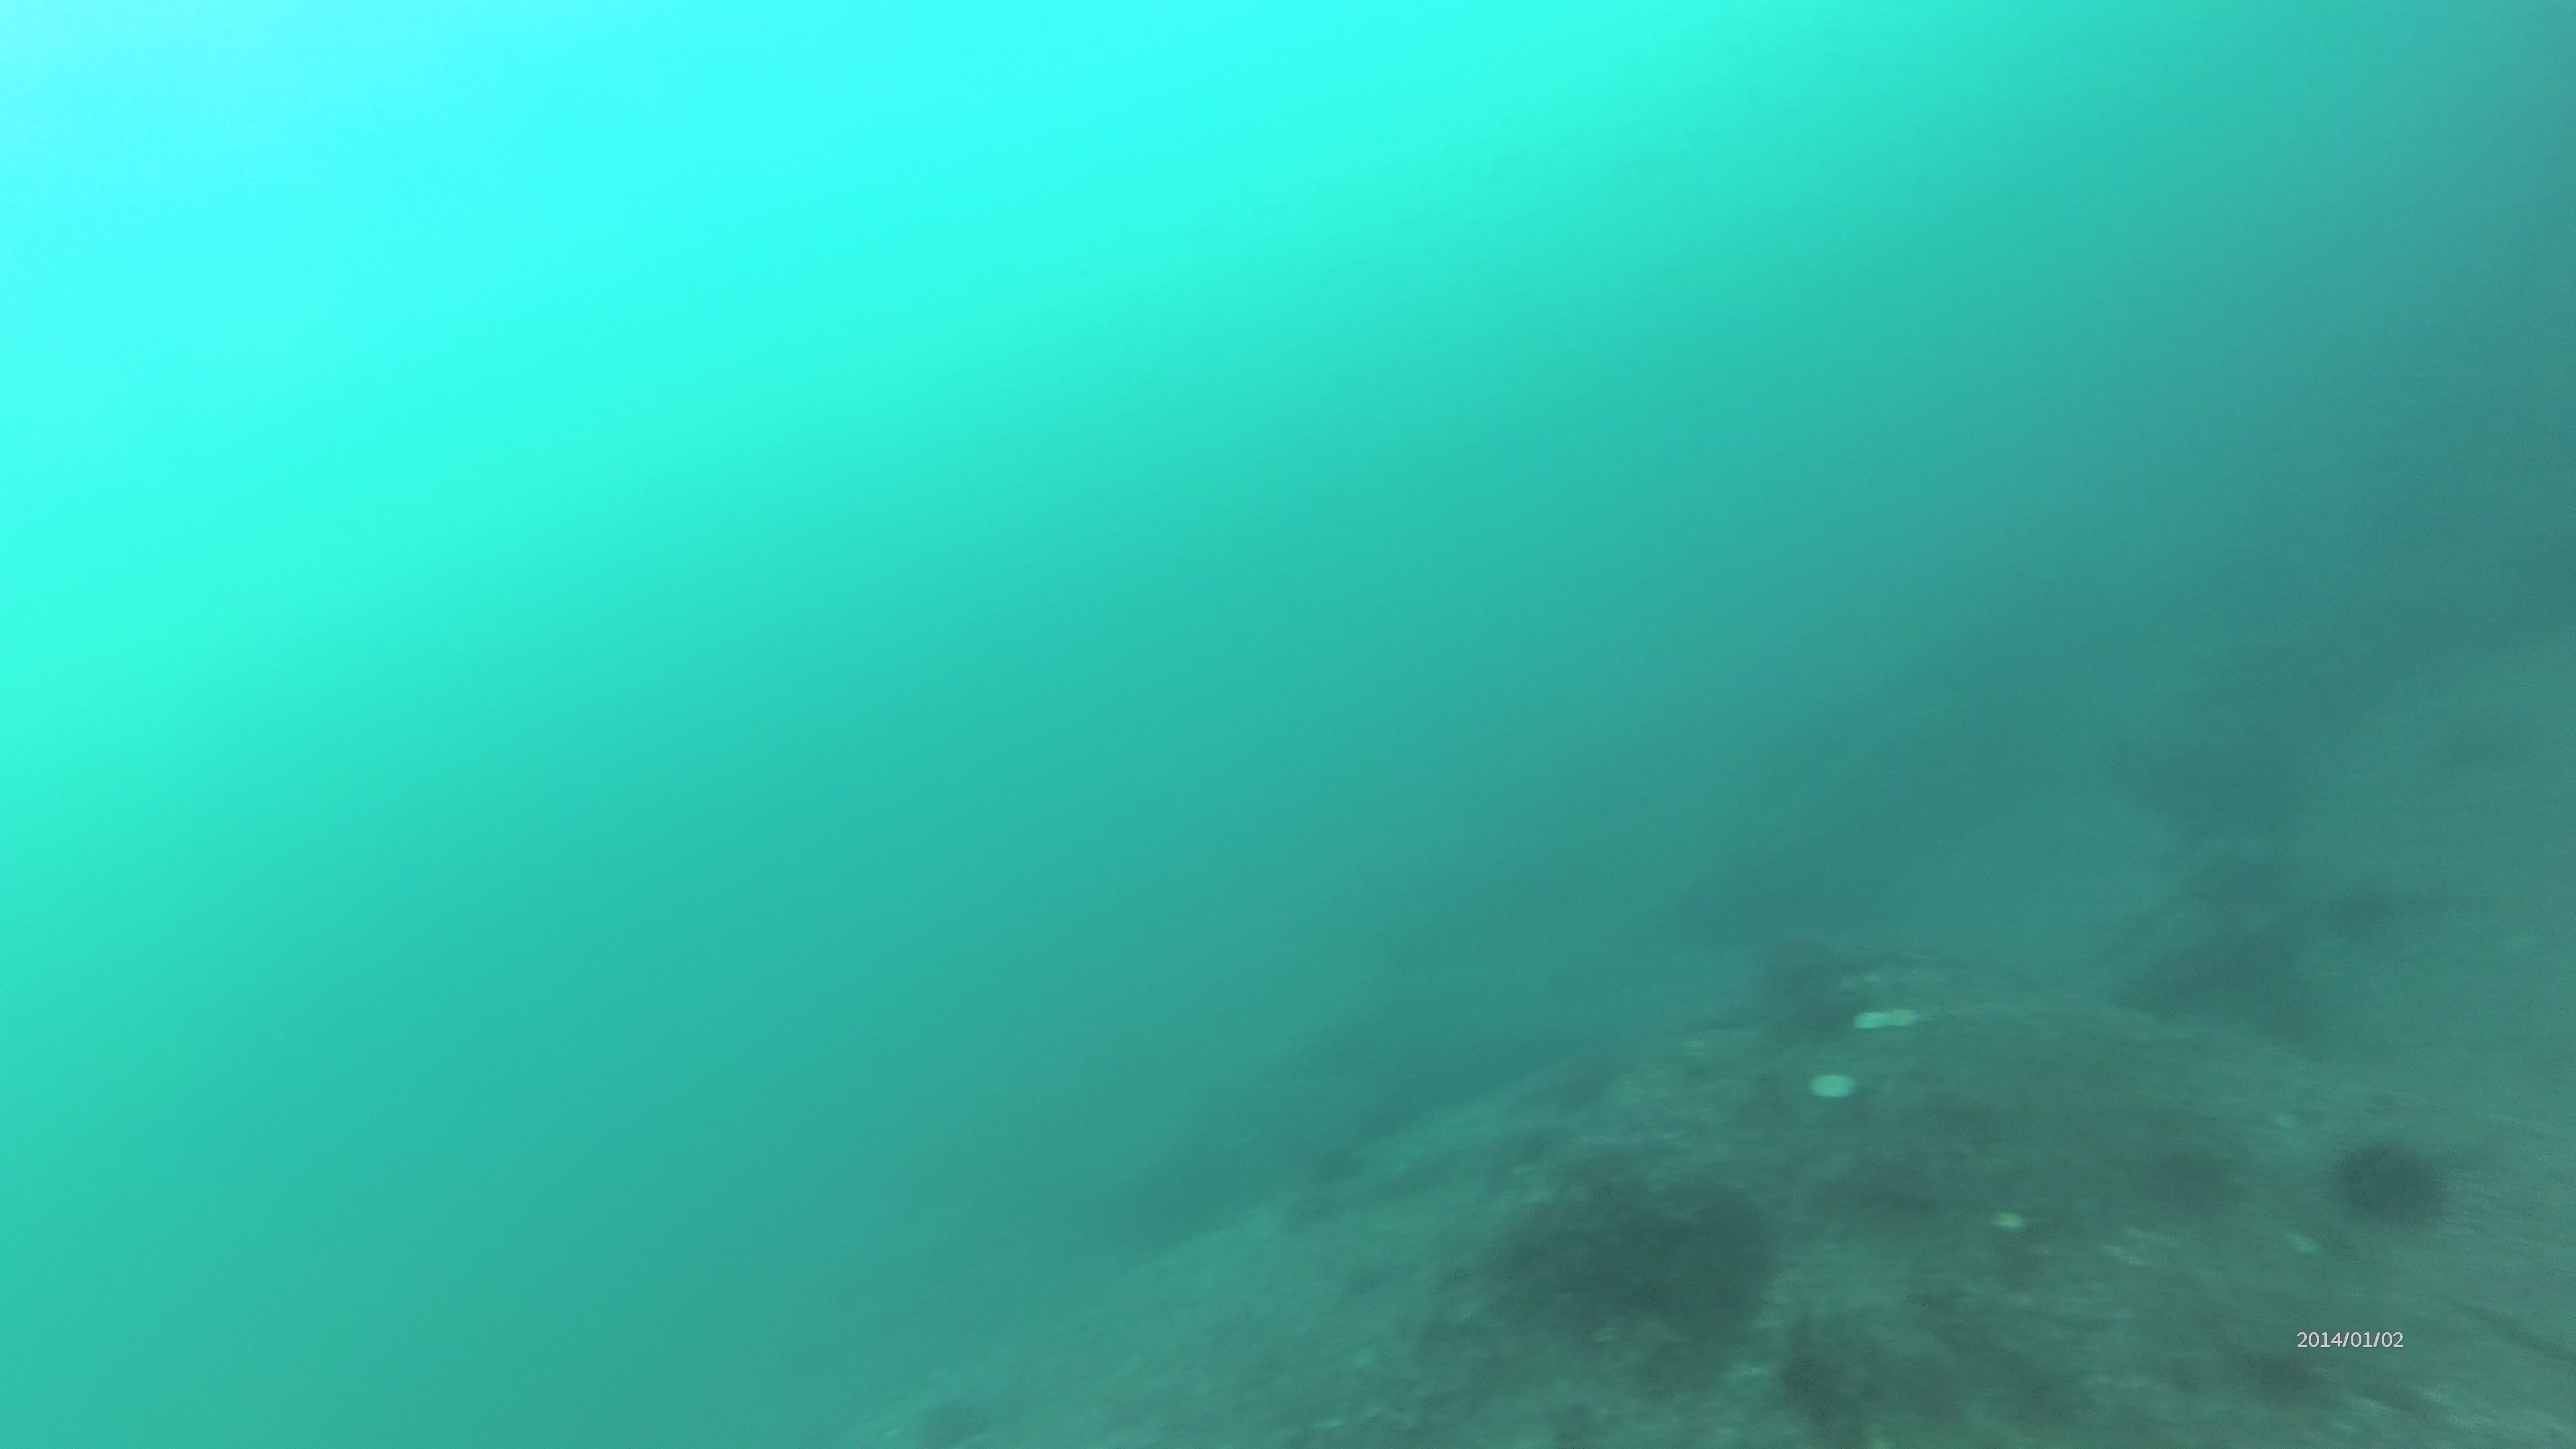echinus: (2327, 1129, 2454, 1235)
